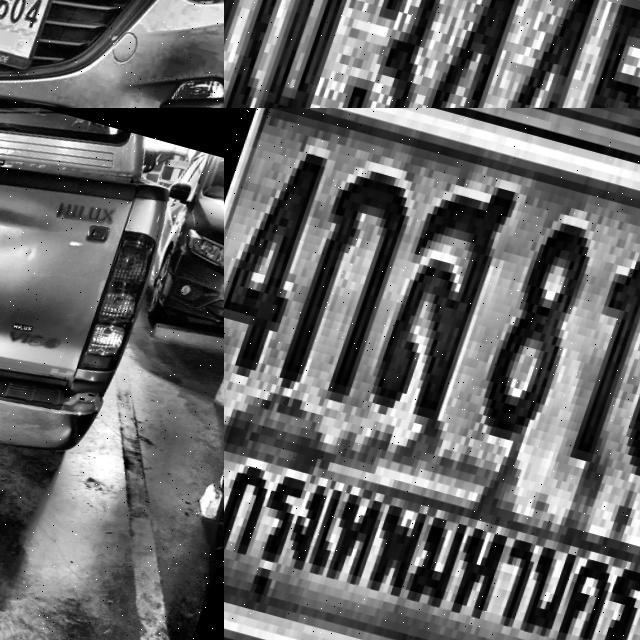license-plate: (224, 108, 640, 640), (224, 0, 640, 108), (0, 0, 65, 73)
